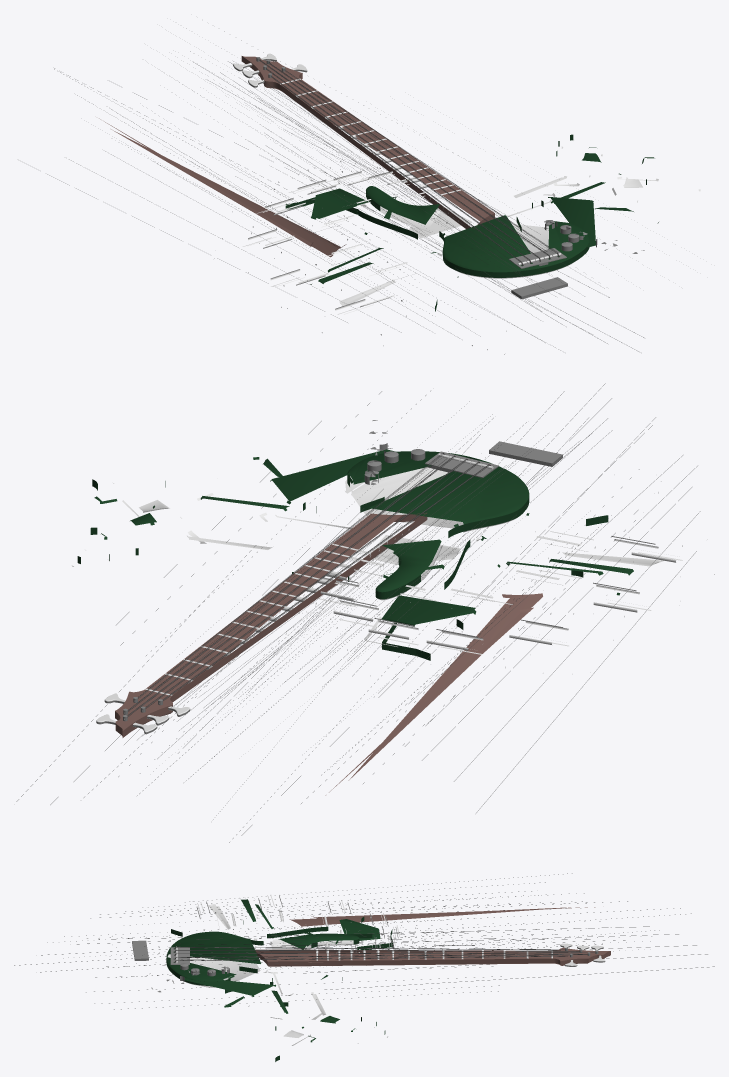
The model's file is bassbroken.fbx.
3 renders of one model, top to bottom at view 1: azimuth 30°, elevation 25°; view 2: azimuth 150°, elevation 25°; view 3: azimuth 270°, elevation 25°, orthographic. The views are drawn at different scales.
Parts seen in each view (by area): view 1: Cap_2_14, Cap_2_12, Cap_1_15, Cap_1_13, body, neck, Sweep_NURBS_4, Sweep_NURBS_1, Sweep_NURBS_2, Sweep_NURBS, Sweep_NURBS_3, Cube (+1 smaller); view 2: Cap_2_14, Cap_2_12, Cap_1_15, Cap_1_13, neck, body, Sweep_NURBS_4, Sweep_NURBS_1, Sweep_NURBS_2, Sweep_NURBS, Sweep_NURBS_3, Cube (+1 smaller); view 3: Cap_2_14, Cap_2_12, neck, Cap_1_15, Cap_1_13, Sweep_NURBS_4, Sweep_NURBS_1, Sweep_NURBS_3, Sweep_NURBS_2, Sweep_NURBS, body, Cube_1.
Boxes of the visible parts, x1,y1,x2,y2 form: Cap_2_14: [310, 147, 658, 284]; Cap_2_12: [242, 56, 494, 221]; Cap_1_15: [269, 139, 700, 306]; Cap_1_13: [99, 86, 459, 257]; body: [285, 134, 646, 311]; neck: [241, 56, 494, 229]; Sweep_NURBS_4: [47, 31, 643, 337]; Sweep_NURBS_1: [77, 68, 562, 338]; Sweep_NURBS_2: [54, 60, 607, 343]; Sweep_NURBS: [139, 76, 541, 336]; Sweep_NURBS_3: [54, 28, 638, 351]; Cube: [511, 277, 567, 299]; Cap_2_14: [94, 449, 633, 626]; Cap_2_12: [115, 513, 401, 730]; Cap_1_15: [72, 467, 664, 647]; Cap_1_13: [121, 523, 542, 795]; neck: [115, 512, 427, 737]; body: [77, 457, 608, 660]; Sweep_NURBS_4: [16, 391, 696, 819]; Sweep_NURBS_1: [137, 401, 697, 803]; Sweep_NURBS_2: [84, 391, 691, 835]; Sweep_NURBS: [163, 414, 682, 780]; Sweep_NURBS_3: [50, 383, 700, 842]; Cube: [489, 441, 562, 466]; Cap_2_14: [166, 899, 380, 1042]; Cap_2_12: [260, 947, 609, 962]; neck: [250, 949, 610, 965]; Cap_1_15: [149, 904, 394, 1045]; Cap_1_13: [260, 907, 609, 966]; Sweep_NURBS_4: [40, 873, 714, 1009]; Sweep_NURBS_1: [77, 898, 678, 977]; Sweep_NURBS_3: [14, 882, 707, 1003]; Sweep_NURBS_2: [41, 891, 696, 992]; Sweep_NURBS: [90, 902, 649, 966]; body: [166, 917, 392, 1061]; Cube_1: [170, 947, 189, 964].
Size of the model in its own units: 924 by 69.05 by 1479.
